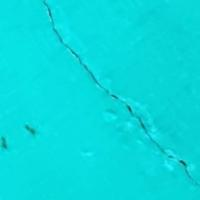crack: (47, 3, 190, 166)
